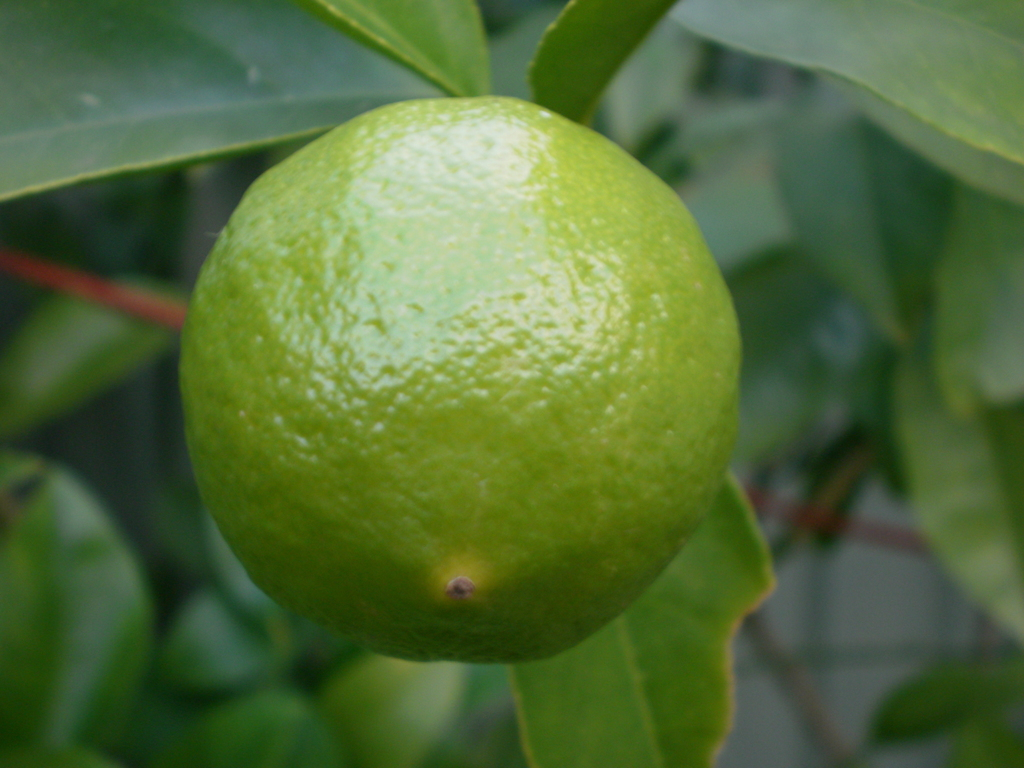Tree: (0, 1, 1023, 768)
